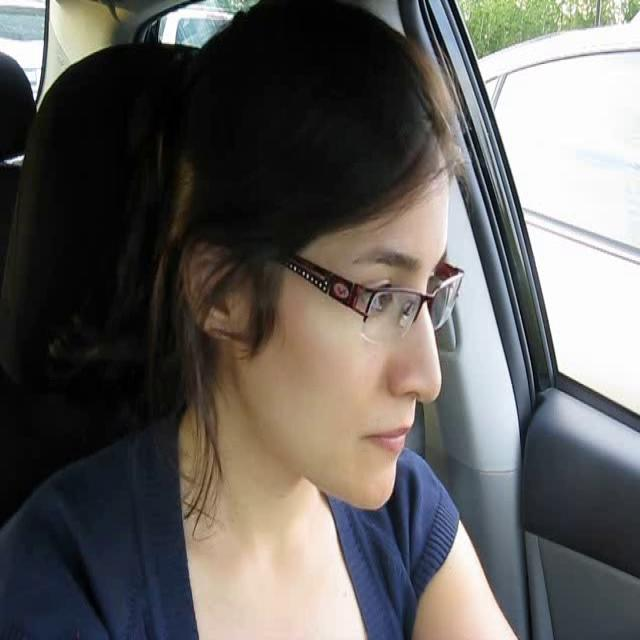close: (360, 421, 416, 459)
